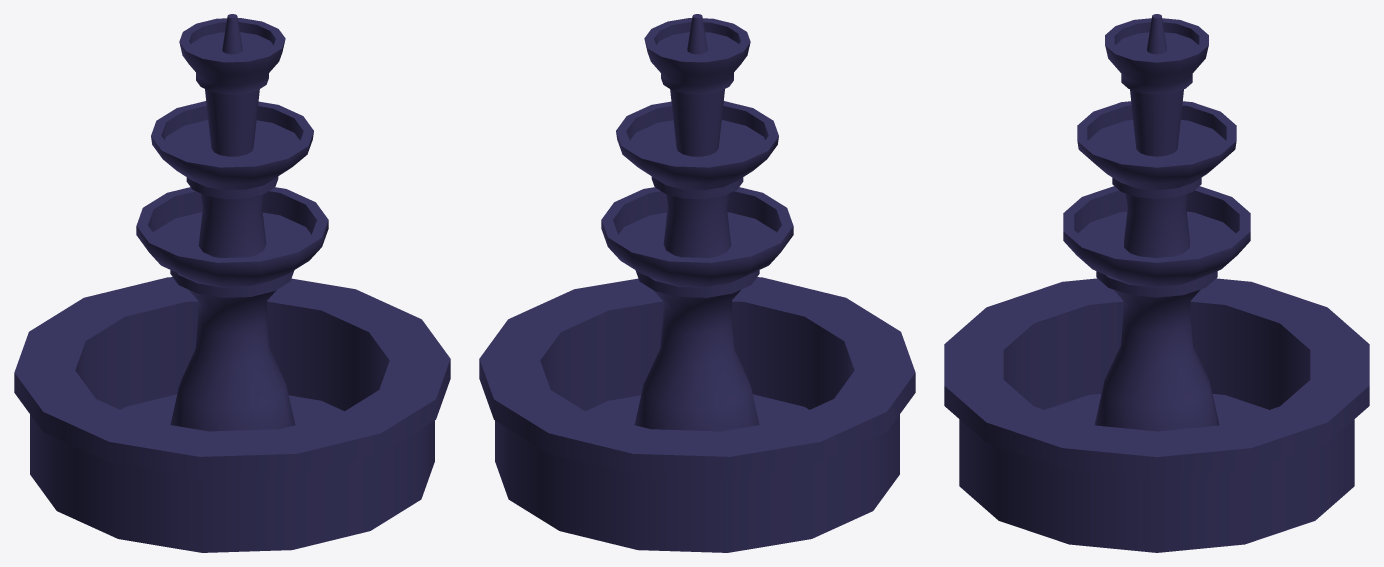
The model's file is Fantasy_Fountain.fbx.
3 views of the same model, side by side, from view 1: azimuth 30°, elevation 25°; view 2: azimuth 150°, elevation 25°; view 3: azimuth 270°, elevation 25° (orthographic).
Parts seen in each view (by area): view 1: Cylinder001; view 2: Cylinder001; view 3: Cylinder001.
Boxes of the visible parts, x1=… form: Cylinder001: x1=14, y1=14, x2=450, y2=552; Cylinder001: x1=479, y1=14, x2=915, y2=552; Cylinder001: x1=944, y1=14, x2=1369, y2=552.
Bounding box in the file's own units: 28.11 × 32.06 × 27.4.
